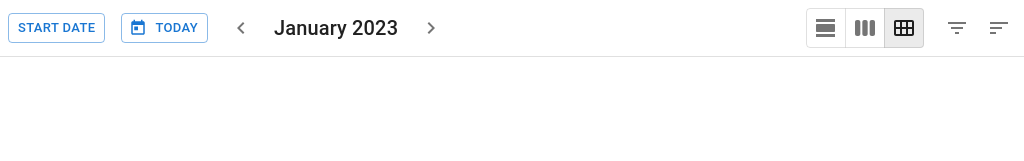
Test: CalendarToolbar › shows date field menu when date field button is clicked
The width and height of the screenshot is (1024, 161).
// Find and click the date field button
What coordinates should you click on to do the following:
click the button "Start Date"
I would click on:
 (57, 28)
Its box is x1=8 y1=13 x2=105 y2=43.
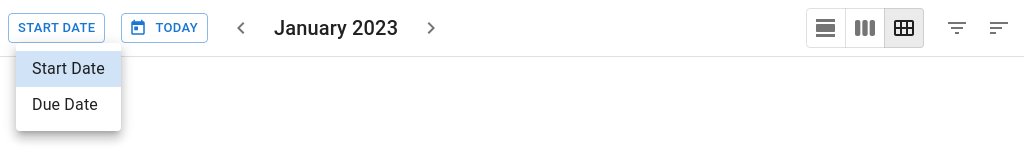
Now the menu item "Due Date" is shown, box x1=32 y1=95 x2=98 y2=114
